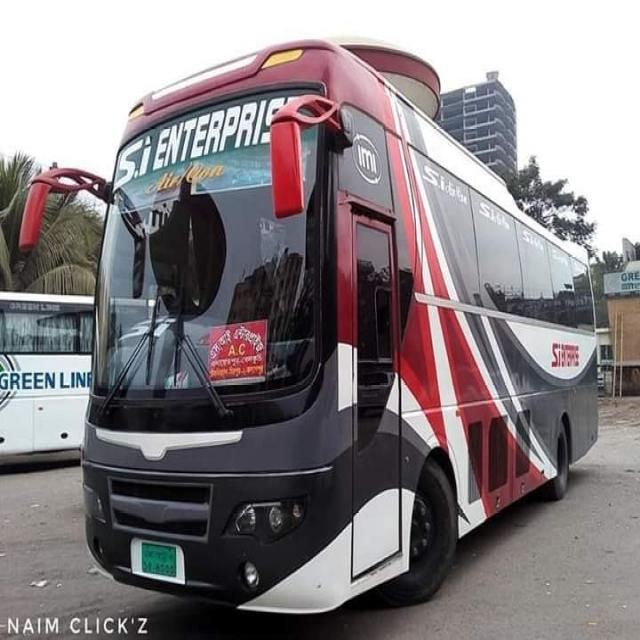bus: (18, 35, 600, 613)
